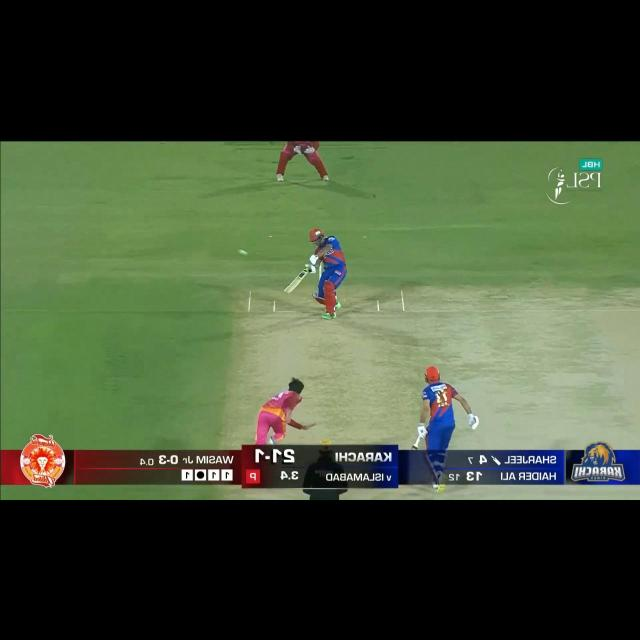bat: (284, 268, 309, 294), (410, 444, 419, 451)
toe: (284, 288, 292, 294)
